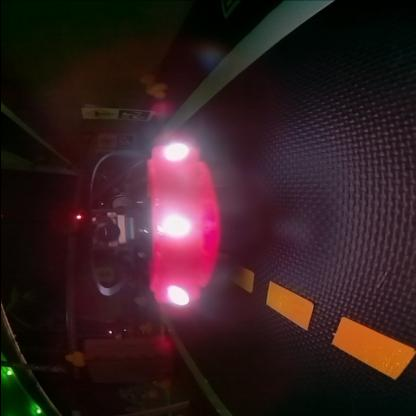Duckie: (146, 84, 162, 98), (139, 75, 153, 89)
Duckiebot: (92, 141, 216, 306)
Intersection sign: (84, 109, 112, 120)
QR code: (116, 110, 150, 122), (113, 134, 134, 150)
